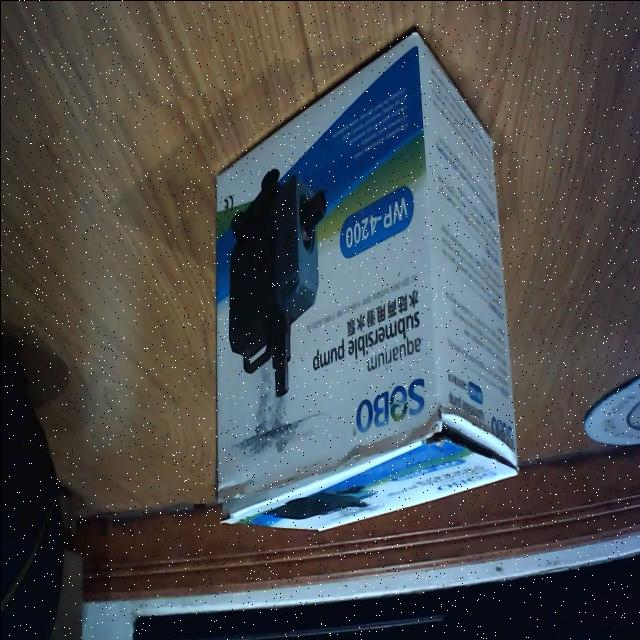SOBO_WP_4200: (203, 23, 524, 543)
